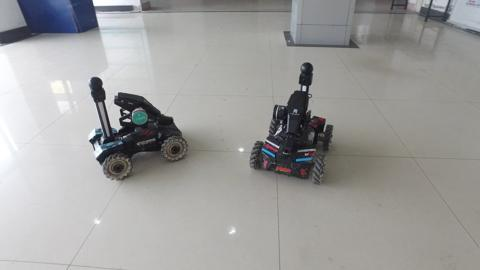chariot: (242, 59, 346, 192), (80, 73, 195, 187)
